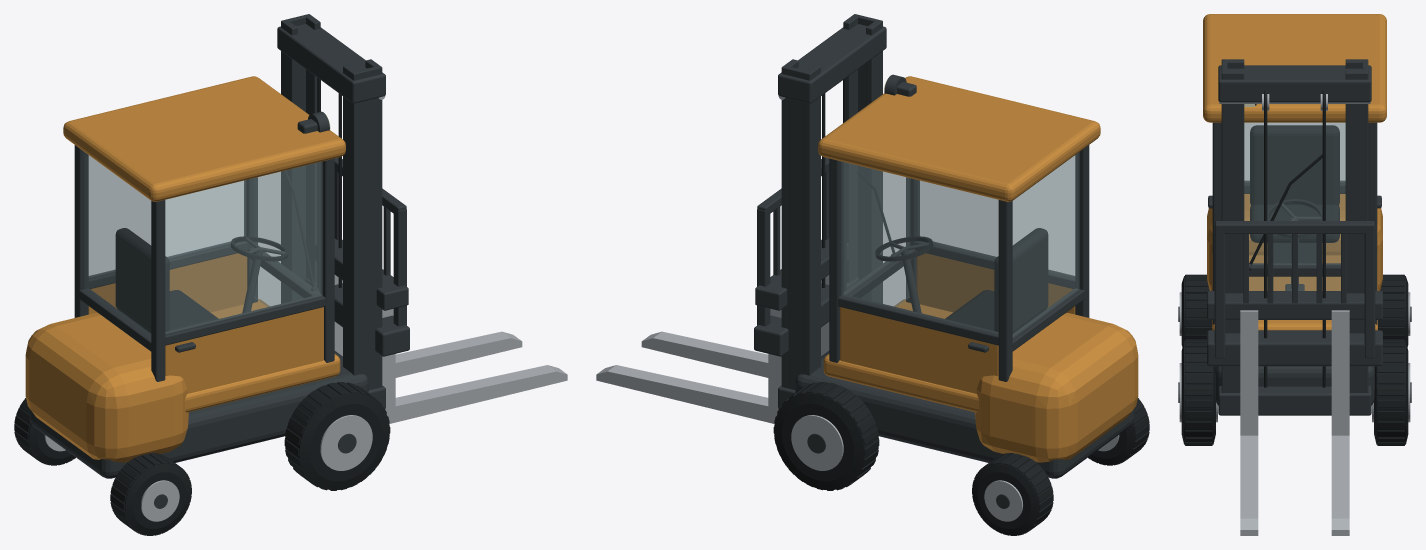
The model's file is A-NEW-20261026-COUNTERBALANCE-FORKLIFT-001_LOD0_R2.glb.
3 renders of one model, left to right at view 1: azimuth 30°, elevation 25°; view 2: azimuth 150°, elevation 25°; view 3: azimuth 270°, elevation 25°, orthographic.
Parts seen in each view (by area): view 1: side captured glass, cab roof, curved rear counterweight, side captured glass.001, rear captured windshield, door lower panel, vehicle chassis, front captured windshield, mast channel web, treaded tire, mast channel flange, L fork and tapered tine (+26 smaller); view 2: side captured glass.001, cab roof, curved rear counterweight, side captured glass, rear captured windshield, door lower panel.001, vehicle chassis, front captured windshield, mast channel web.001, treaded tire.001, mast channel flange.002, L fork and tapered tine.001 (+26 smaller); view 3: cab roof, front captured windshield, seat back, mast crossbeam.001, mast channel flange.001, mast channel flange.003, carriage lower crossbar, L fork and tapered tine, L fork and tapered tine.001, carriage upper crossbar, mast crossbeam, cab floor (+24 smaller).
Boxes of the visible parts, x1,y1,x2,y2 form: side captured glass: (165,161,322,333); cab roof: (63,76,345,201); curved rear counterweight: (25,313,188,462); side captured glass.001: (89,156,245,277); rear captured windshield: (84,152,150,337); door lower panel: (165,307,323,393); vehicle chassis: (29,351,368,478); front captured windshield: (254,162,320,306); mast channel web: (355,66,379,389); treaded tire: (285,382,389,490); mast channel flange: (343,65,359,375); L fork and tapered tine: (382,308,567,423); side captured glass.001: (841,161,998,333); cab roof: (818,76,1100,201); curved rear counterweight: (975,313,1138,462); side captured glass: (918,156,1074,277); rear captured windshield: (1013,152,1079,337); door lower panel.001: (840,307,998,393); vehicle chassis: (795,351,1134,478); front captured windshield: (843,162,909,306); mast channel web.001: (784,66,808,389); treaded tire.001: (774,382,878,490); mast channel flange.002: (804,65,820,375); L fork and tapered tine.001: (596,308,781,423); cab roof: (1203,14,1386,122); front captured windshield: (1244,123,1345,290); seat back: (1250,125,1339,205); mast crossbeam.001: (1218,65,1371,102); mast channel flange.001: (1221,70,1244,392); mast channel flange.003: (1345,70,1368,392); carriage lower crossbar: (1207,330,1382,366); L fork and tapered tine: (1240,310,1258,535); L fork and tapered tine.001: (1331,310,1349,535); carriage upper crossbar: (1207,291,1382,319); mast crossbeam: (1218,386,1371,415); cab floor: (1212,253,1377,330).
Bounding box in the file's own units: 3.42 × 2.68 × 1.43.
